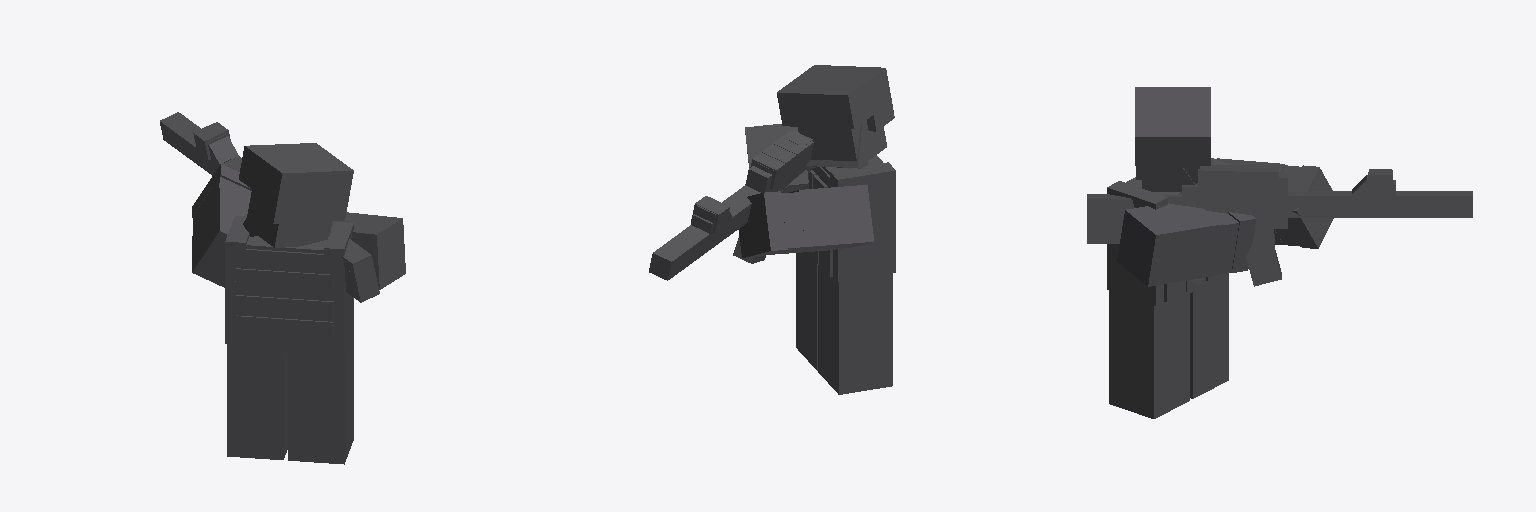
The model's file is rocket.obj.
The picture shows the model from 3 angles: view 1: azimuth 30°, elevation 25°; view 2: azimuth 150°, elevation 25°; view 3: azimuth 270°, elevation 25°; orthographic projection.
Parts seen in each view (by area): view 1: UsSoldierM4Carbine1; view 2: UsSoldierM4Carbine1; view 3: UsSoldierM4Carbine1.
Boxes of the visible parts, box(x1,y1,x2,y2) form: UsSoldierM4Carbine1: box(160, 112, 405, 464); UsSoldierM4Carbine1: box(649, 65, 895, 394); UsSoldierM4Carbine1: box(1087, 87, 1472, 418).
Bounding box in the file's own units: 0.5843 × 0.9605 × 1.14.